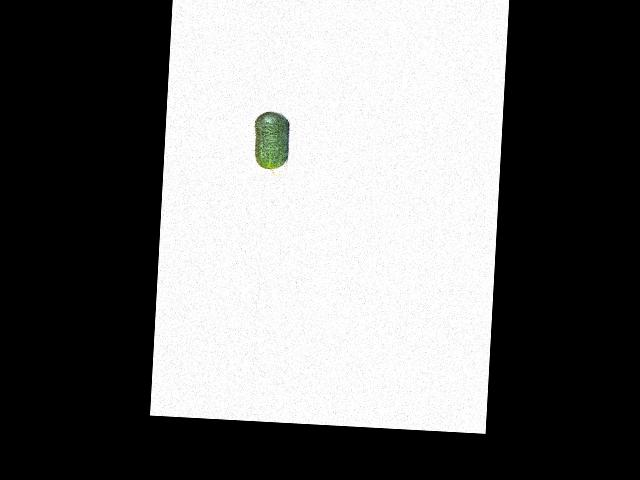cucumber: (252, 111, 290, 176)
